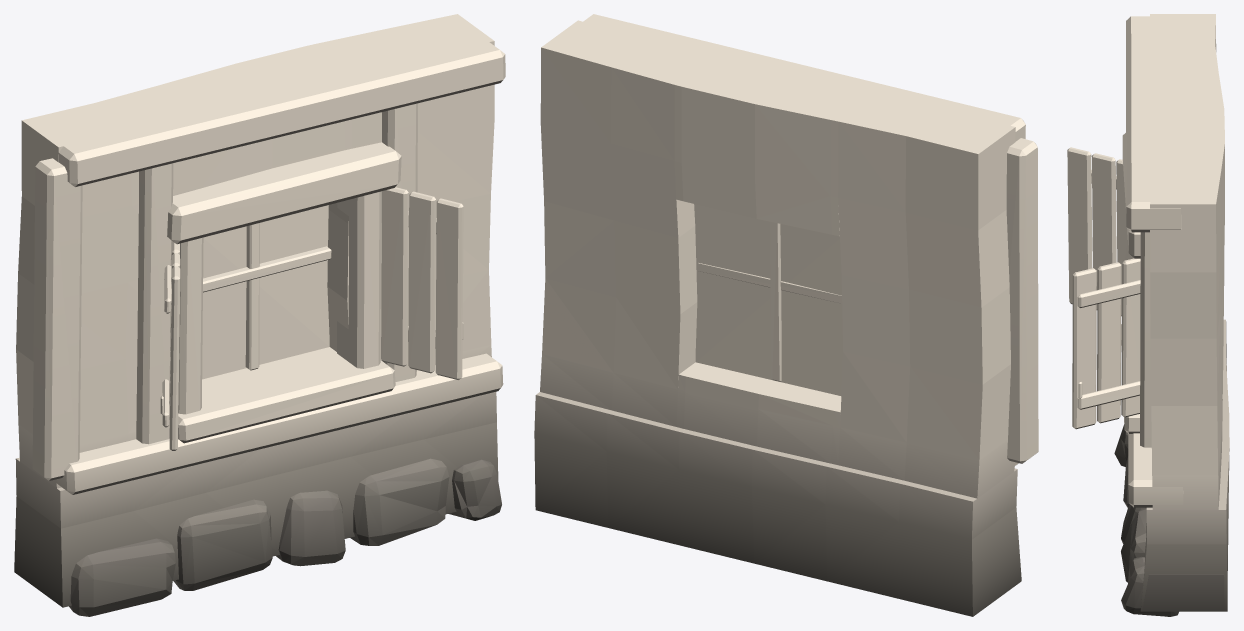
File: SM_VK_Wall_Plaster_Window.fbx
3 views of the same model, side by side, from view 1: azimuth 30°, elevation 25°; view 2: azimuth 150°, elevation 25°; view 3: azimuth 270°, elevation 25° (orthographic). The views are drawn at different scales.
Parts seen in each view (by area): view 1: SM_VK_Wall_Plaster_Window.001; view 2: SM_VK_Wall_Plaster_Window.001; view 3: SM_VK_Wall_Plaster_Window.001.
Boxes of the visible parts, x1,y1,x2,y2 form: SM_VK_Wall_Plaster_Window.001: [14, 14, 505, 616]; SM_VK_Wall_Plaster_Window.001: [534, 14, 1038, 616]; SM_VK_Wall_Plaster_Window.001: [1067, 14, 1229, 616].
Size of the model in its own units: 3.13 by 3.11 by 1.08.
